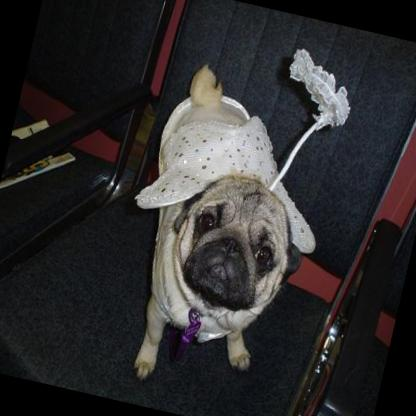pug: (98, 52, 337, 402)
